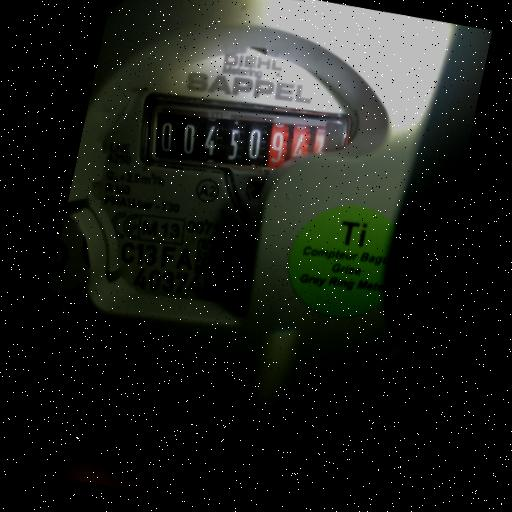0: (173, 112, 206, 165), (150, 110, 183, 162), (240, 119, 272, 170)
4: (195, 115, 225, 165), (287, 123, 314, 162)
5: (219, 117, 250, 168)
7: (310, 125, 330, 154)
9: (263, 120, 293, 170)
border_water_meter_number: (141, 84, 354, 199)
